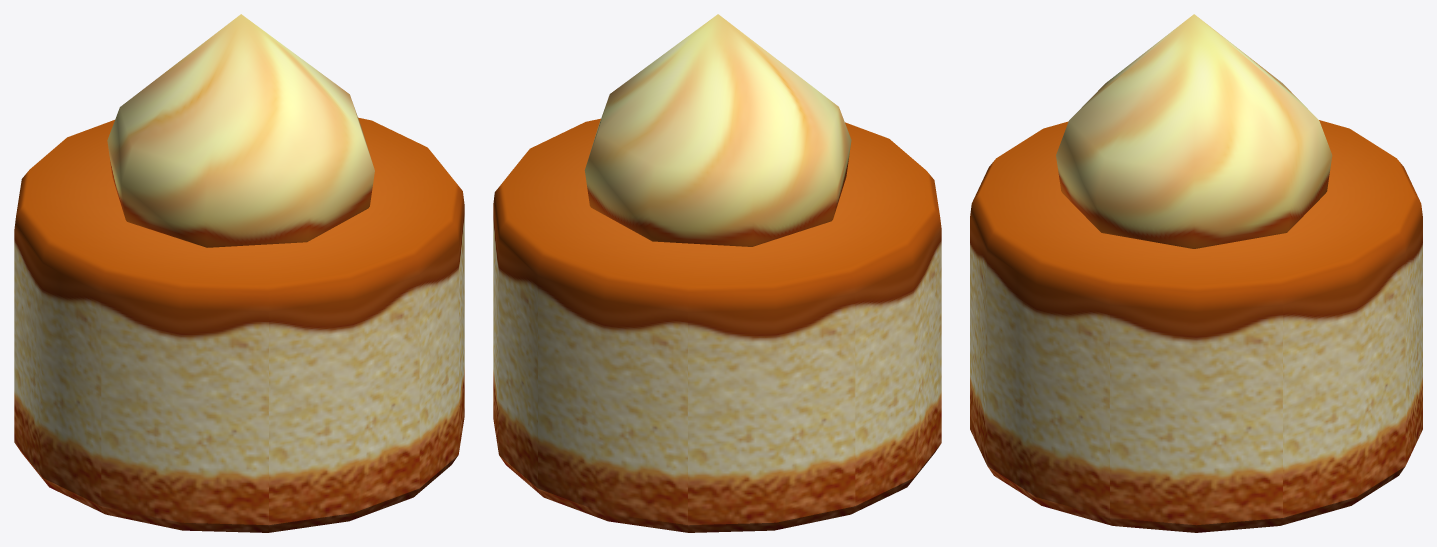
Rendered from 008-Cheesecake_01.FBX.
The picture shows the model from 3 angles, left to right: view 1: azimuth 30°, elevation 25°; view 2: azimuth 150°, elevation 25°; view 3: azimuth 270°, elevation 25°; orthographic projection.
Visible parts, largest first — view 1: 008-Cheesecake_01; view 2: 008-Cheesecake_01; view 3: 008-Cheesecake_01.
Part boxes in pixels (box(x1,y1,x2,y2)): 008-Cheesecake_01: box(14, 14, 464, 532); 008-Cheesecake_01: box(493, 14, 941, 532); 008-Cheesecake_01: box(970, 14, 1422, 532).
Bounding box in the file's own units: 12.38 × 12.87 × 12.38.
